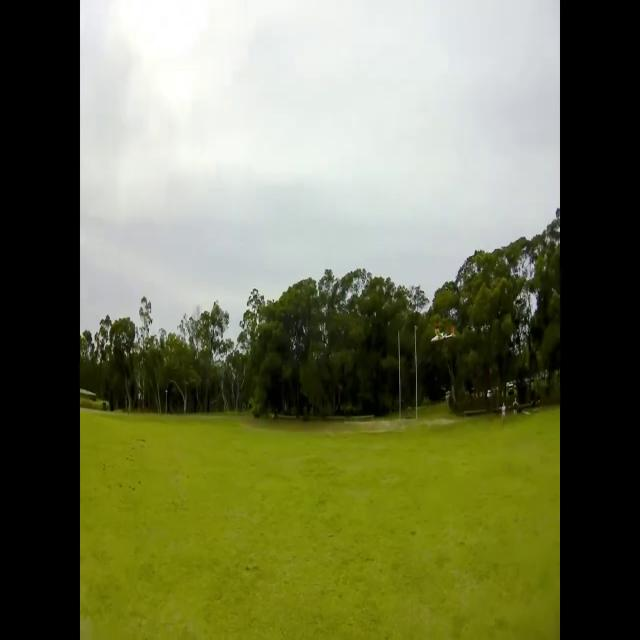iha: (428, 327, 459, 345)
